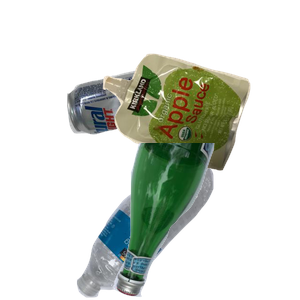glass: (109, 143, 300, 300)
metal: (65, 65, 231, 192)
plastic: (74, 156, 280, 300)
trash: (100, 51, 300, 214)
